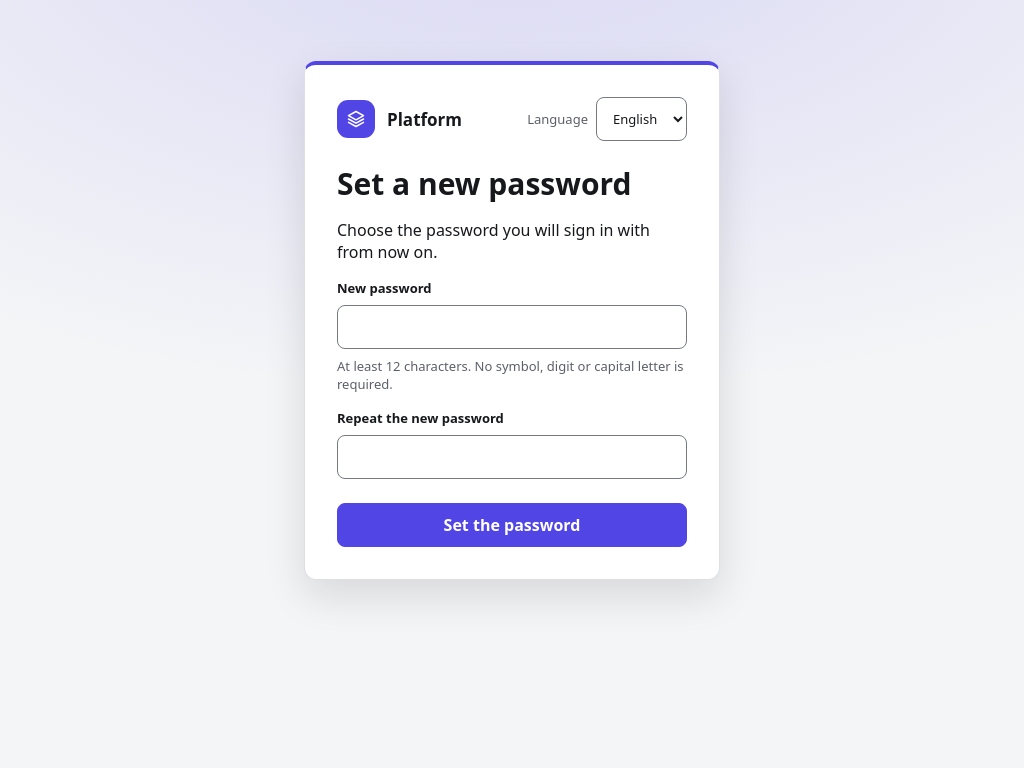
reset — the token from the fragment, one message for a token that cannot be used › asks nothing of the API for a password shorter than the rule, and spends no link
In the password field labelled "New password": (512, 327) x1=337 y1=305 x2=687 y2=349, type "eleven-char"
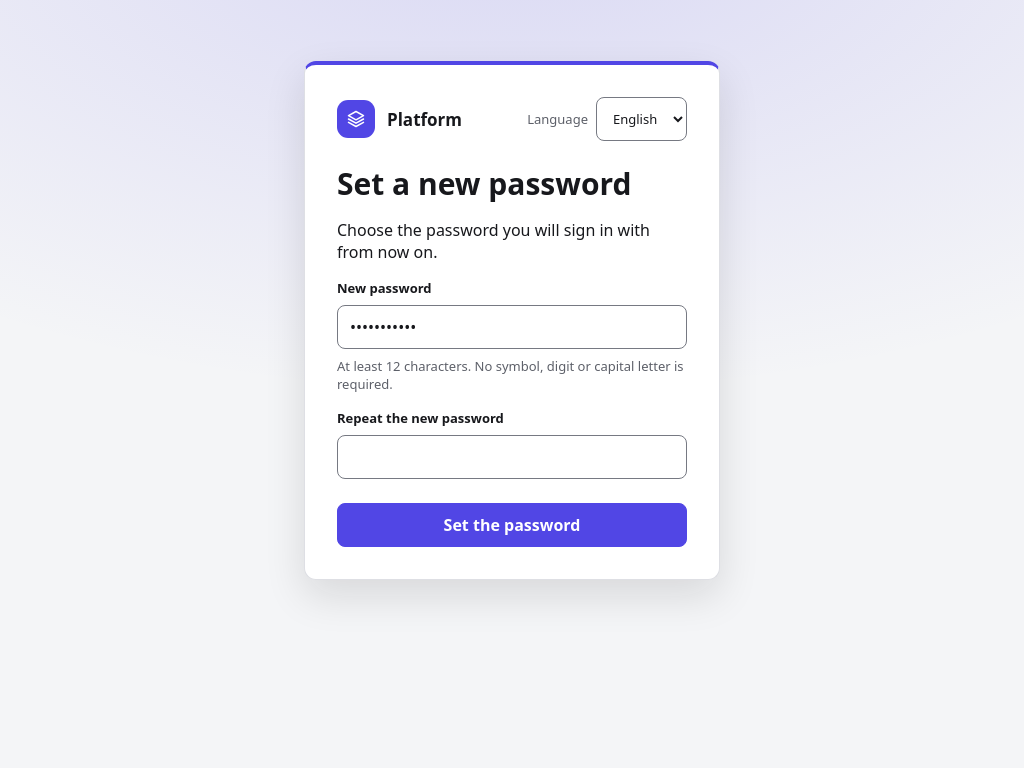
In the password field labelled "Repeat the new password": (512, 457) x1=337 y1=435 x2=687 y2=479, type "eleven-char"
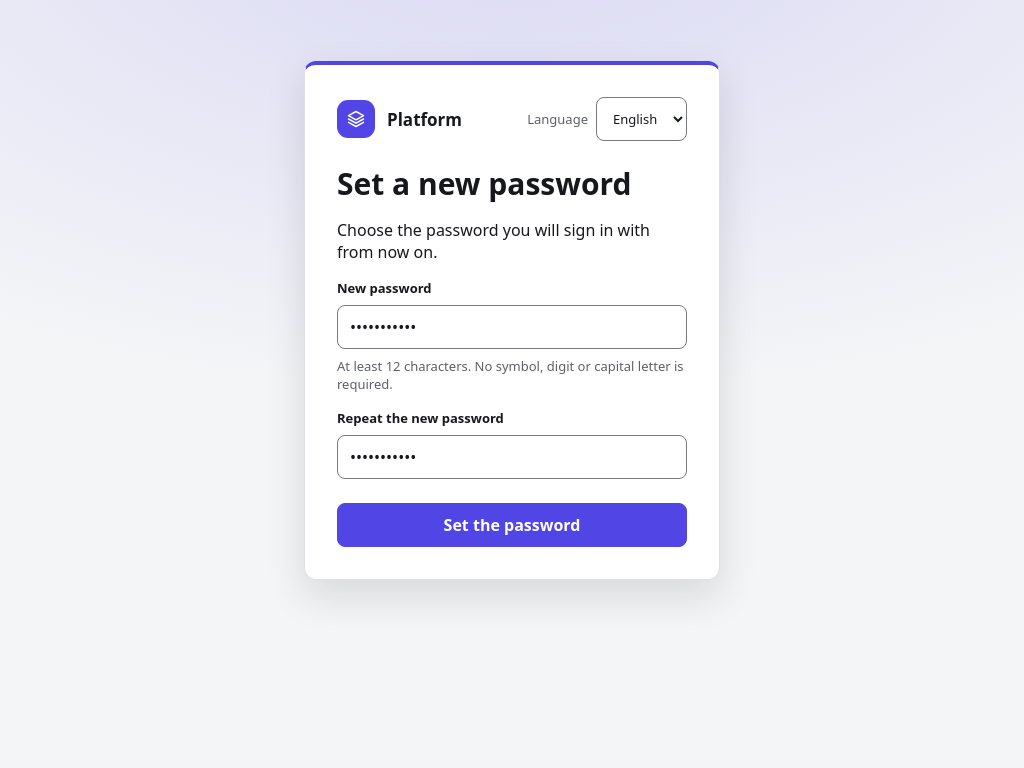
Click the button "Set the password": (512, 525) x1=337 y1=503 x2=687 y2=547
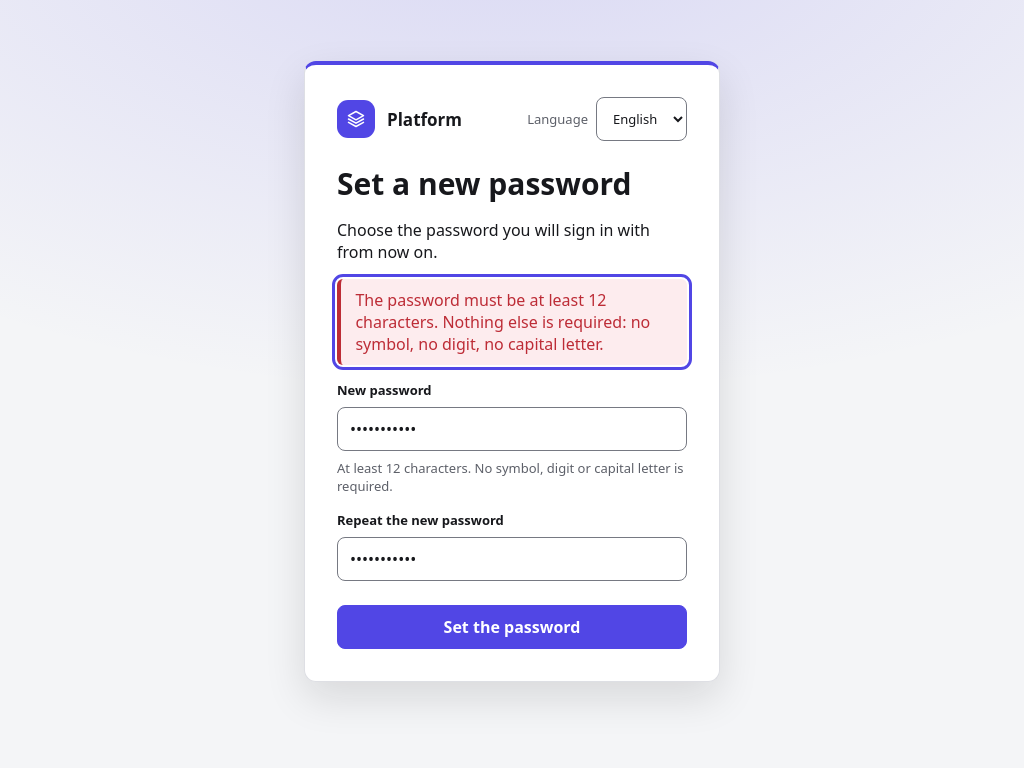
Check: the message shows "at least 12 characters", box x1=355 y1=289 x2=650 y2=355
